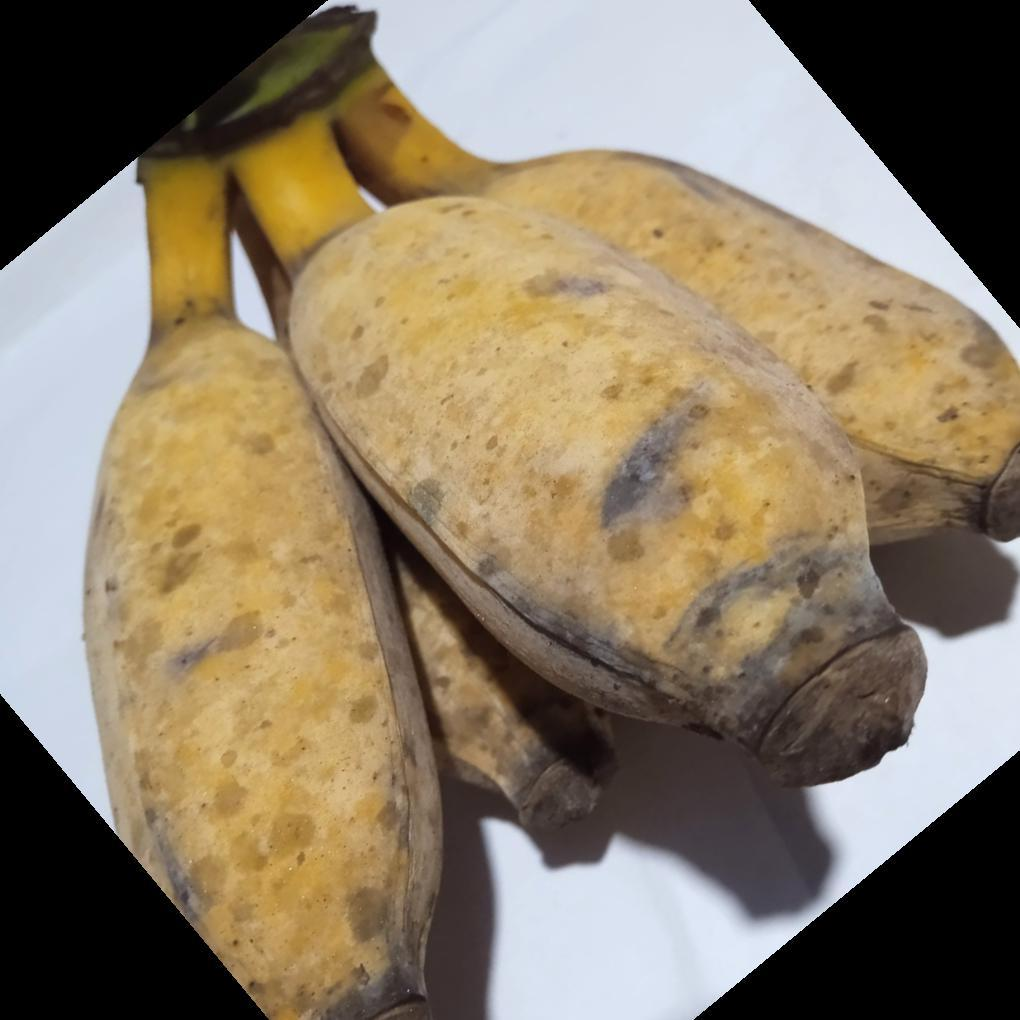Banana Ripe: (102, 0, 993, 1020), (239, 33, 999, 846)
